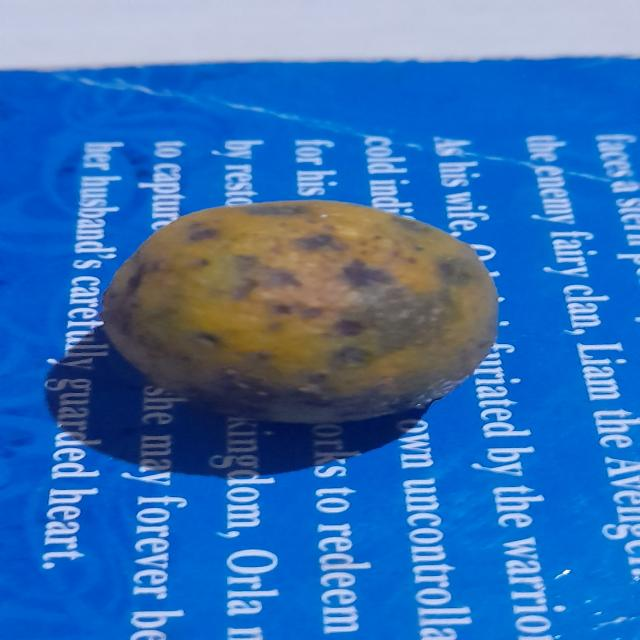black spot: (96, 198, 498, 427)
